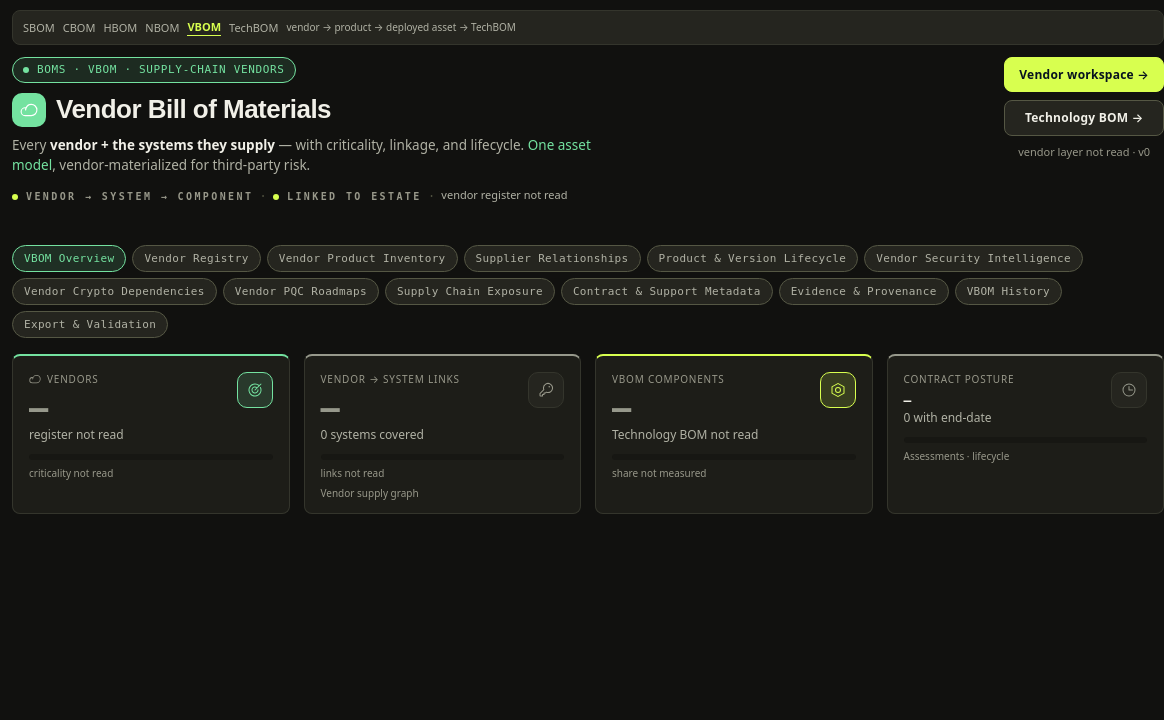
Test case: VBOM workspace › pins the 13-section navigation and the registry columns
The width and height of the screenshot is (1164, 720).
Click the tab "Vendor Registry": {"x": 197, "y": 258} [132,245,261,272]
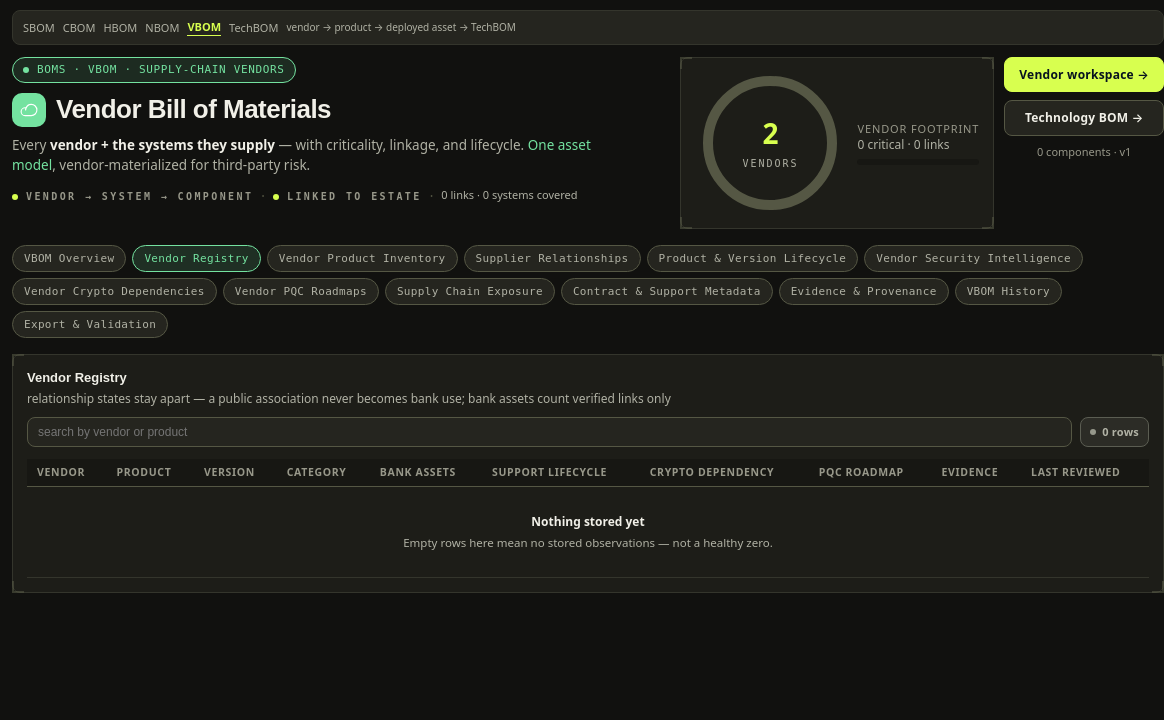
expect the column heading "Product" is shown: met, box [107,459,194,487]
expect the column heading "Version" is shown: met, box [194,459,277,487]
expect the column heading "Category" is shown: met, box [277,459,370,487]
